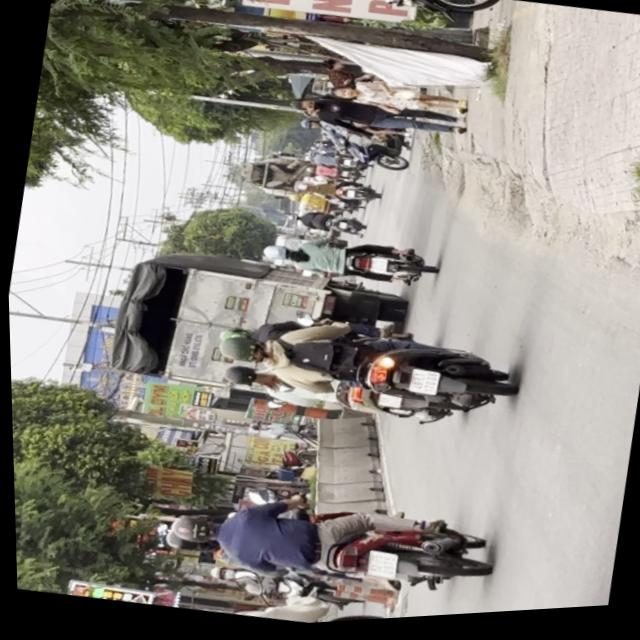helmet: (163, 511, 221, 553), (213, 333, 267, 371), (216, 363, 257, 391), (259, 245, 291, 268), (214, 326, 245, 349)
licenseplate: (151, 469, 493, 624), (204, 299, 520, 437), (201, 349, 482, 450), (254, 223, 437, 304)
nohelmet: (405, 371, 437, 401), (362, 554, 394, 583), (376, 395, 398, 412), (366, 260, 386, 278)
